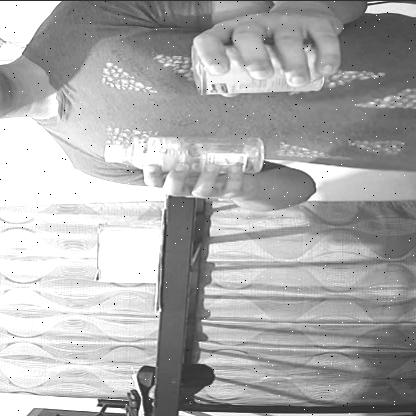Plastic Bottle: (83, 127, 295, 181)
